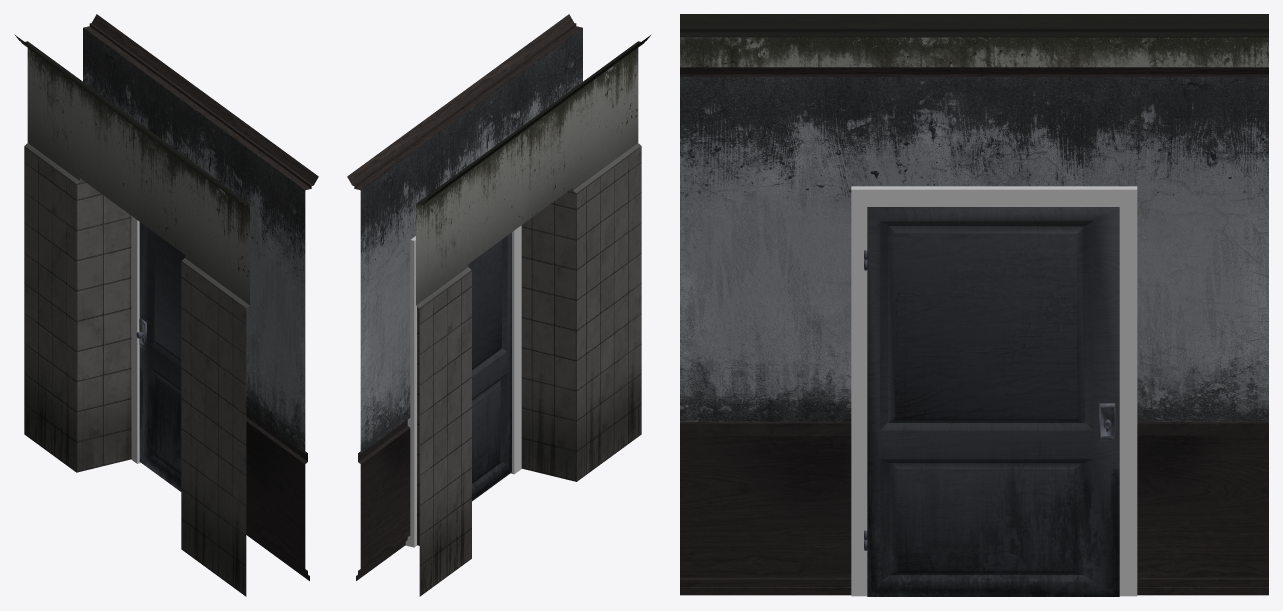
The model's file is FPH_WallBathroom_Door.fbx.
The picture shows the model from 3 angles, left to right: view 1: azimuth 30°, elevation 25°; view 2: azimuth 150°, elevation 25°; view 3: azimuth 270°, elevation 25°; orthographic projection. The views are drawn at different scales.
Parts seen in each view (by area): view 1: FPH_WallBathroom, FPH_Wall_Diffuse, FPH_Door_Diffuse, FPH_Door_Diffuse2; view 2: FPH_WallBathroom, FPH_Wall_Diffuse, FPH_Door_Diffuse, FPH_Door_Diffuse2; view 3: FPH_Wall_Diffuse, FPH_Door_Diffuse, FPH_WallBathroom, FPH_Door_Diffuse2.
Boxes of the visible parts, bbox=[...] form: FPH_WallBathroom: bbox=[14, 34, 249, 596]; FPH_Wall_Diffuse: bbox=[83, 14, 318, 580]; FPH_Door_Diffuse: bbox=[136, 222, 184, 491]; FPH_Door_Diffuse2: bbox=[131, 216, 140, 463]; FPH_WallBathroom: bbox=[416, 34, 651, 596]; FPH_Wall_Diffuse: bbox=[347, 14, 582, 580]; FPH_Door_Diffuse: bbox=[468, 232, 511, 501]; FPH_Door_Diffuse2: bbox=[405, 225, 521, 547]; FPH_Wall_Diffuse: bbox=[680, 67, 1268, 595]; FPH_Door_Diffuse: bbox=[864, 207, 1119, 596]; FPH_WallBathroom: bbox=[680, 14, 1268, 67]; FPH_Door_Diffuse2: bbox=[851, 186, 1137, 596].
Bounding box in the file's own units: 2.86 × 13.31 × 13.3.
